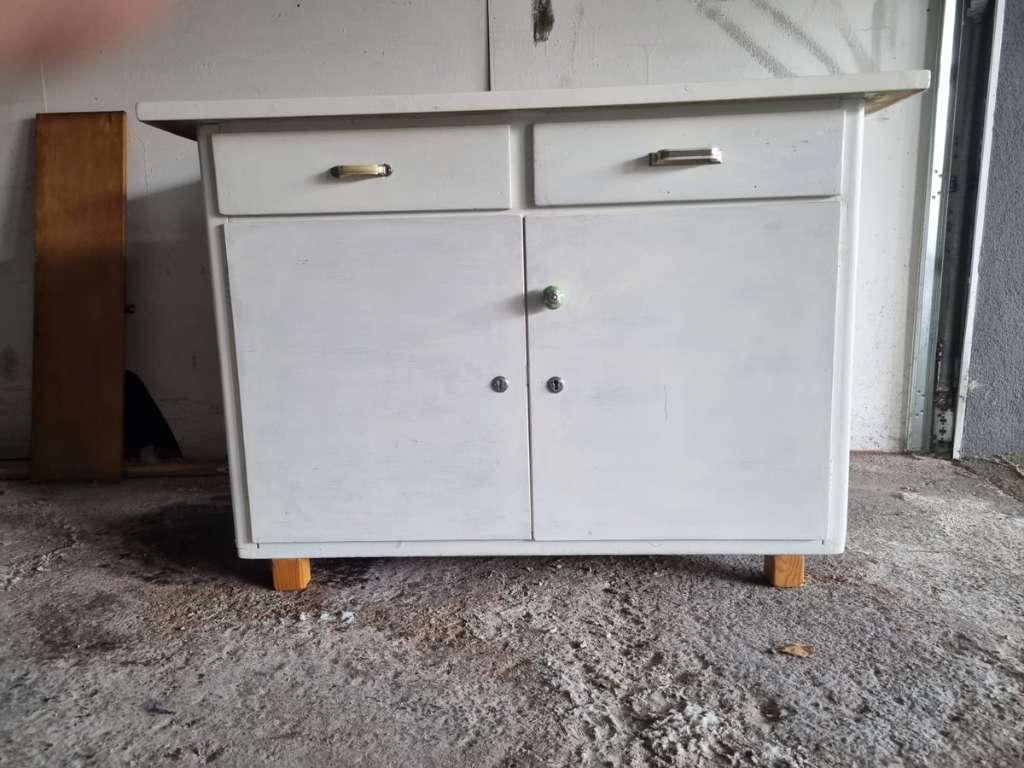cabinet_door: (530, 214, 836, 542), (244, 217, 532, 539), (531, 119, 841, 204), (211, 132, 514, 214)
handle: (640, 140, 729, 176), (324, 157, 397, 185), (539, 282, 566, 319)
